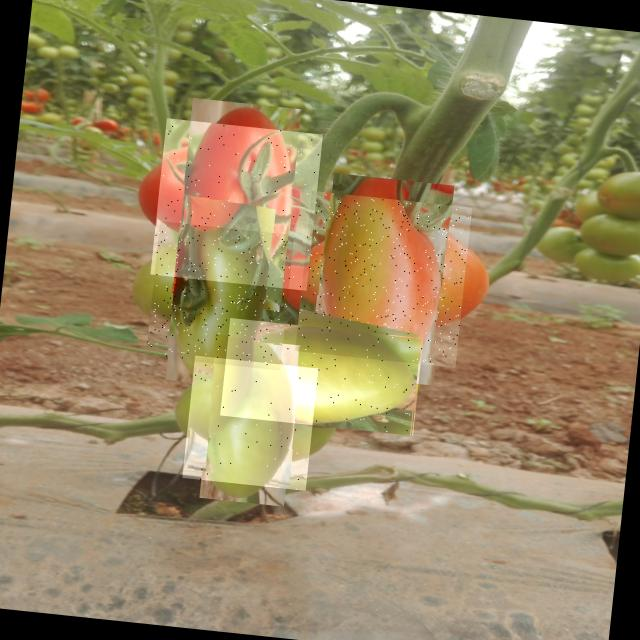Ripe Tomato: (294, 190, 472, 368), (150, 117, 322, 290)
Unripe Tomato: (220, 318, 422, 436), (146, 221, 294, 370), (182, 355, 318, 490)
